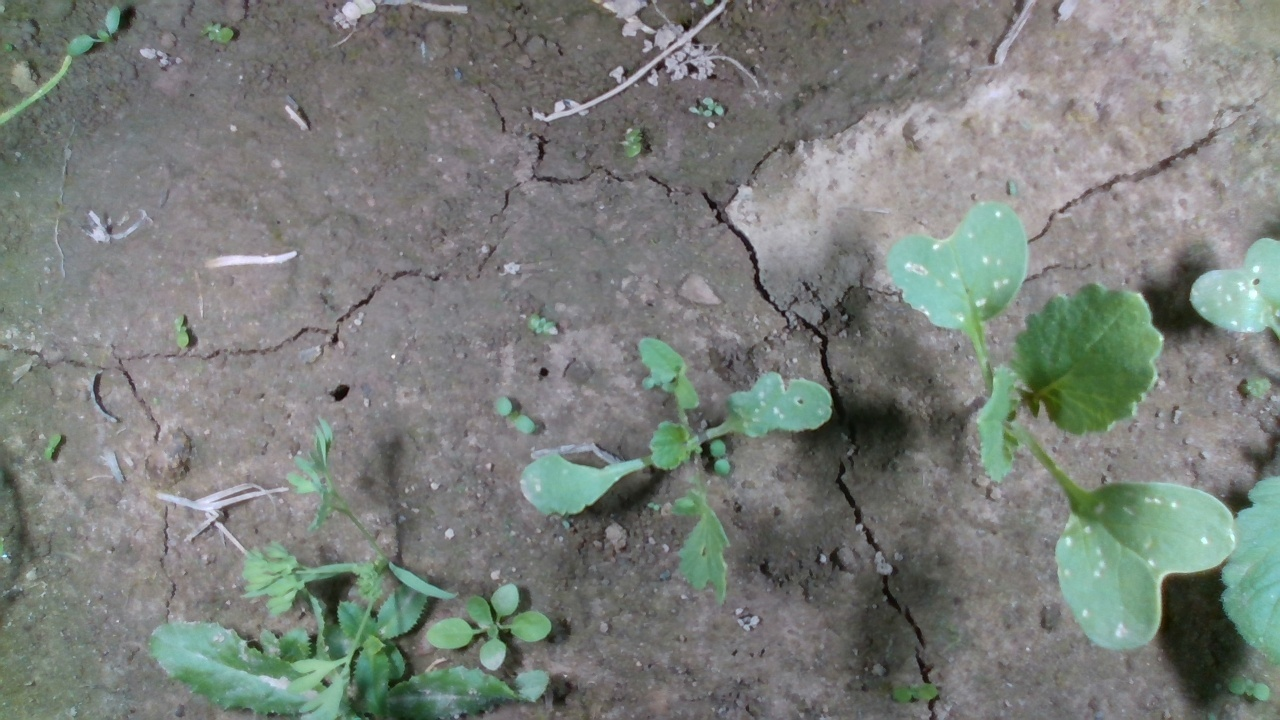weed: (491, 395, 538, 435), (1223, 673, 1273, 704), (889, 681, 939, 702), (198, 19, 236, 44), (709, 437, 731, 479), (524, 313, 562, 337), (622, 125, 643, 162), (171, 313, 190, 350), (42, 430, 63, 461)
